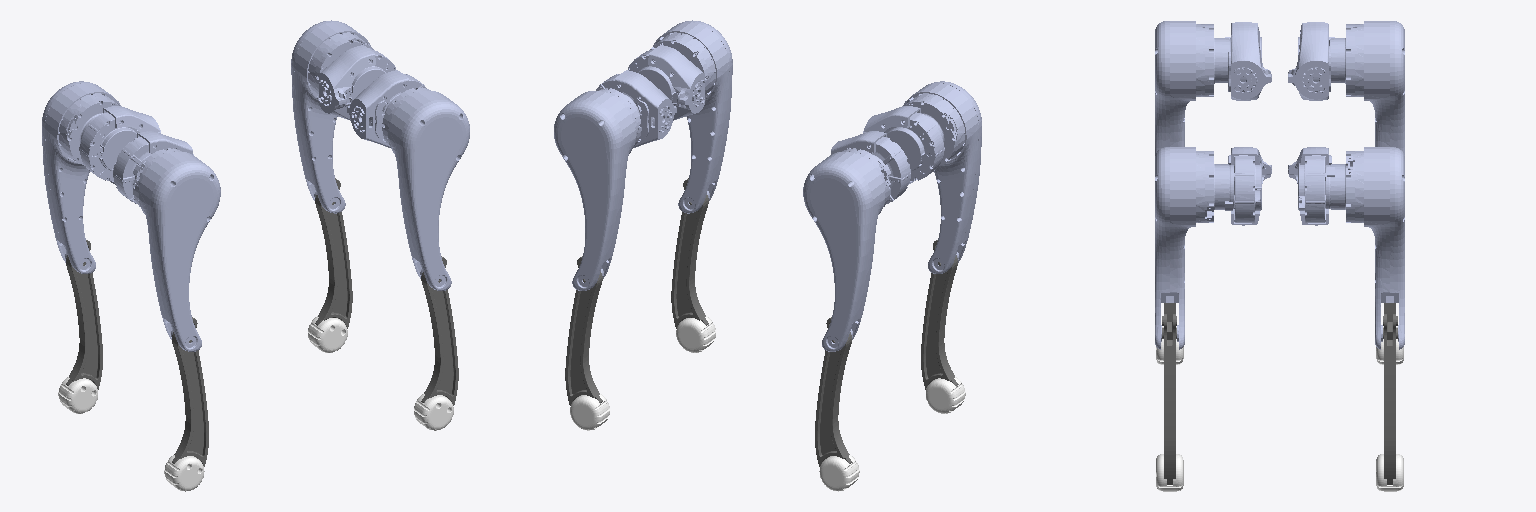
URDF robot description (X-DOG-URDF-7):
<?xml version="1.0" encoding="utf-8"?>
<!-- This URDF was automatically created by SolidWorks to URDF Exporter! Originally created by Stephen Brawner (brawner@gmail.com) 
     Commit Version: 1.6.0-4-g7f85cfe  Build Version: 1.6.7995.38578
     For more information, please see http://wiki.ros.org/sw_urdf_exporter -->
<robot
  name="X-DOG-URDF-7">
  <link
    name="base">
    <inertial>
      <origin
        xyz="0 0 0"
        rpy="0 0 0" />
      <mass value="5.6056"/>
      <inertia ixx="0.02456" ixy="0" ixz="0" iyy="0.05518" iyz="0" izz="0.07016"/>
    </inertial>
    <visual>
      <origin
        xyz="0 0 0"
        rpy="0 0 0" />
      <geometry>
        <mesh
          filename="../meshes/base.STL" />
      </geometry>
      <material
        name="">
        <color
          rgba="1 1 1 1" />
      </material>
    </visual>
    <collision>
      <origin
        xyz="-0.03 0 0"
        rpy="0 0 0" />
      <geometry>
        <box size="0.3 0.1 0.1" />
      </geometry>
    </collision>
  </link>
  <link
    name="FL_hip">
    <inertial>
      <origin
        xyz="-0.016524 -0.018717 -1.028E-05"
        rpy="0 0 0" />
      <mass
        value="0.678" />
      <inertia
        ixx="9.3893E-05"
        ixy="-9.6966E-07"
        ixz="4.9869E-08"
        iyy="0.00013301"
        iyz="2.623E-08"
        izz="6.7241E-05" />
    </inertial>
    <visual>
      <origin
        xyz="0 0 0"
        rpy="0 0 0" />
      <geometry>
        <mesh
          filename="../meshes/FL_hip.STL" />
      </geometry>
      <material
        name="">
        <color
          rgba="0.79216 0.81961 0.93333 1" />
      </material>
    </visual>
    <collision>
      <origin
        xyz="0 0.07 0"
        rpy="1.5707963267948966 0 0" />
      <geometry>
        <cylinder length="0.05" radius="0.046" />
      </geometry>
    </collision>
  </link>
  <joint
    name="FL_hip_joint" type="revolute">
    <origin
      xyz="0.17184 0.066326 0.0044898"
      rpy="0 0 0" />
    <parent
      link="base" />
    <child
      link="FL_hip" />
    <axis
      xyz="1 0 0" />
    <limit
      lower="-1.0472"
      upper="1.0472"
      effort="23.7"
      velocity="30.1" />
  </joint>
  <link
    name="FL_thigh">
    <inertial>
      <origin
        xyz="-0.0049117 -0.0082491 -0.036087"
        rpy="0 0 0" />
      <mass
        value="1.152" />
      <inertia
        ixx="0.0016"
        ixy="1.083E-05"
        ixz="-0.00011423"
        iyy="0.0018537"
        iyz="6.5694E-05"
        izz="0.00031306" />
    </inertial>
    <visual>
      <origin
        xyz="0 0 0"
        rpy="0 0 0" />
      <geometry>
        <mesh
          filename="../meshes/FL_thigh.STL" />
      </geometry>
      <material
        name="">
        <color
          rgba="0.79216 0.81961 0.93333 1" />
      </material>
    </visual>
    <collision>
      <origin
        xyz="-0.01 0.028 -0.06"
        rpy="0 1.5707963267948966 0" />
      <geometry>
        <box size="0.213 0.0245 0.06" />
      </geometry>
    </collision>
  </link>
  <joint
    name="FL_thigh_joint" type="revolute">
    <origin
      xyz="0 0.0636 0"
      rpy="0 0 0" />
    <parent
      link="FL_hip" />
    <child
      link="FL_thigh" />
    <axis
      xyz="0 1 0" />
    <limit
      lower="-1.5708"
      upper="3.4907"
      effort="23.7"
      velocity="30.1" />
  </joint>
  <link
    name="FL_calf">
    <inertial>
      <origin
        xyz="0.010831 -8.9768E-09 -0.092101"
        rpy="0 0 0" />
      <mass
        value="0.154" />
      <inertia
        ixx="0.0001146"
        ixy="-8.0208E-11"
        ixz="1.6264E-05"
        iyy="0.00012418"
        iyz="-1.4152E-11"
        izz="1.2226E-05" />
    </inertial>
    <visual>
      <origin
        xyz="0 0 0"
        rpy="0 0 0" />
      <geometry>
        <mesh
          filename="../meshes/FL_calf.STL" />
      </geometry>
      <material
        name="">
        <color
          rgba="0.49804 0.49804 0.49804 1" />
      </material>
    </visual>
    <collision>
      <origin
        xyz="0.01 0 -0.05"
        rpy="0 -0.21 0" />
      <geometry>
        <cylinder length="0.15" radius="0.012" />
      </geometry>
    </collision>
  </link>
  <joint
    name="FL_calf_joint" type="revolute">
    <origin
      xyz="0 0.015602 -0.21314"
      rpy="0 0 0" />
    <parent
      link="FL_thigh" />
    <child
      link="FL_calf" />
    <axis
      xyz="0 1 0" />
    <limit
      lower="-2.7227"
      upper="0.01"
      effort="45.43"
      velocity="15.7" />
  </joint>
  <link
    name="FL_calflower">
    <collision>
      <origin
        xyz="0 -8.9944E-09 -0.02"
        rpy="0 0 2" />
      <geometry>
        <cylinder length="0.06" radius="0.011" />
      </geometry>
    </collision>
  </link>
  <joint
    name="FL_calflower_joint"  type="fixed" dont_collapse="true">
    <origin
      xyz="0.02013 0 -0.13686"
      rpy="0 0 0" />
    <parent
      link="FL_calf" />
    <child
      link="FL_calflower" />
    <axis
      xyz="0 0 0" />
  </joint>
  <link
    name="FL_foot">
    <inertial>
      <origin
        xyz="-0.0030465 -0.00024191 -0.0050819"
        rpy="0 0 0" />
      <mass
        value="0.04" />
      <inertia
        ixx="1.3663E-05"
        ixy="-7.7708E-08"
        ixz="1.5617E-07"
        iyy="1.5631E-05"
        iyz="-1.2891E-07"
        izz="1.3829E-05" />
    </inertial>
    <visual>
      <origin
        xyz="0 0 0"
        rpy="0 0 0" />
      <geometry>
        <mesh
          filename="../meshes/FL_foot.STL" />
      </geometry>
      <material
        name="">
        <color
          rgba="1 1 1 1" />
      </material>
    </visual>
    <collision>
      <origin
        xyz="-0.003 0 -0.005"
        rpy="0 0 0" />
      <geometry>
        <sphere radius="0.028" />
      </geometry>
    </collision>
  </link>
  <joint
    name="FL_foot_joint" type="fixed" dont_collapse="true">
    <origin
      xyz="0.002364 0 -0.1994" />
    <parent
      link="FL_calf" />
    <child
      link="FL_foot" />
    <axis
      xyz="0 0 0" />
  </joint>
  <link
    name="FR_hip">
    <inertial>
      <origin
        xyz="-0.016524 0.018717 -1.028E-05"
        rpy="0 0 0" />
      <mass
        value="0.678" />
      <inertia
        ixx="9.3893E-05"
        ixy="1.0056E-06"
        ixz="-4.9868E-08"
        iyy="0.00013301"
        iyz="-3.2614E-08"
        izz="6.7241E-05" />
    </inertial>
    <visual>
      <origin
        xyz="0 0 0"
        rpy="0 0 0" />
      <geometry>
        <mesh
          filename="../meshes/FR_hip.STL" />
      </geometry>
      <material
        name="">
        <color
          rgba="0.79216 0.81961 0.93333 1" />
      </material>
    </visual>
    <collision>
      <origin
        xyz="0 -0.07 0"
        rpy="1.5707963267948966 0 0" />
      <geometry>
        <cylinder length="0.05" radius="0.046" />
      </geometry>
    </collision>
  </link>
  <joint
    name="FR_hip_joint" type="revolute">
    <origin
      xyz="0.17184 -0.066326 0.0044898"
      rpy="0 0 0" />
    <parent
      link="base" />
    <child
      link="FR_hip" />
    <axis
      xyz="1 0 0" />
    <limit
      lower="-1.0472"
      upper="1.0472"
      effort="23.7"
      velocity="30.1" />
  </joint>
  <link
    name="FR_thigh">
    <inertial>
      <origin
        xyz="-0.0049117 0.0082491 -0.036087"
        rpy="0 0 0" />
      <mass
        value="1.152" />
      <inertia
        ixx="0.0016006"
        ixy="-1.0985E-05"
        ixz="-0.00011519"
        iyy="0.0018536"
        iyz="-6.5225E-05"
        izz="0.00031237" />
    </inertial>
    <visual>
      <origin
        xyz="0 0 0"
        rpy="0 0 0" />
      <geometry>
        <mesh
          filename="../meshes/FR_thigh.STL" />
      </geometry>
      <material
        name="">
        <color
          rgba="0.79216 0.81961 0.93333 1" />
      </material>
    </visual>
    <collision>
      <origin
        xyz="-0.01 -0.028 -0.06"
        rpy="0 1.5707963267948966 0" />
      <geometry>
        <box size="0.213 0.0245 0.06" />
      </geometry>
    </collision>
  </link>
  <joint
    name="FR_thigh_joint" type="revolute">
    <origin
      xyz="0 -0.0636 0"
      rpy="0 0 0" />
    <parent
      link="FR_hip" />
    <child
      link="FR_thigh" />
    <axis
      xyz="0 1 0" />
    <limit
      lower="-1.5708"
      upper="3.4907"
      effort="23.7"
      velocity="30.1" />
  </joint>
  <link
    name="FR_calf">
    <inertial>
      <origin
        xyz="0.010831 8.9768E-09 -0.092101"
        rpy="0 0 0" />
      <mass
        value="0.154" />
      <inertia
        ixx="0.0001146"
        ixy="-8.0206E-11"
        ixz="1.6265E-05"
        iyy="0.00012418"
        iyz="-1.4174E-11"
        izz="1.2226E-05" />
    </inertial>
    <visual>
      <origin
        xyz="0 0 0"
        rpy="0 0 0" />
      <geometry>
        <mesh
          filename="../meshes/FR_calf.STL" />
      </geometry>
      <material
        name="">
        <color
          rgba="0.49804 0.49804 0.49804 1" />
      </material>
    </visual>
    <collision>
      <origin
        xyz="0.01 0 -0.05"
        rpy="0 -0.21 0" />
      <geometry>
        <cylinder length="0.15" radius="0.012" />
      </geometry>
    </collision>
  </link>
  <joint
    name="FR_calf_joint" type="revolute">
    <origin
      xyz="0 -0.015602 -0.21314"
      rpy="0 0 0" />
    <parent
      link="FR_thigh" />
    <child
      link="FR_calf" />
    <axis
      xyz="0 1 0" />
    <limit
      lower="-2.7227"
      upper="0.01"
      effort="45.43"
      velocity="15.7" />
  </joint>
  <link
    name="FR_calflower">
    <collision>
      <origin
        xyz="0 -8.9944E-09 -0.02"
        rpy="0 0 2" />
      <geometry>
        <cylinder length="0.06" radius="0.011" />
      </geometry>
    </collision>
  </link>
  <joint
    name="FR_calflower_joint" type="fixed" dont_collapse="true">
    <origin
      xyz="0.02013 0 -0.13686"
      rpy="0 0 0" />
    <parent
      link="FR_calf" />
    <child
      link="FR_calflower" />
    <axis
      xyz="0 0 0" />
  </joint>
  <link
    name="FR_foot">
    <inertial>
      <origin
        xyz="-0.0030465 0.00024191 -0.0050819"
        rpy="0 0 0" />
      <mass
        value="0.04" />
      <inertia
        ixx="1.3663E-05"
        ixy="-7.7707E-08"
        ixz="1.5617E-07"
        iyy="1.5631E-05"
        iyz="-1.2891E-07"
        izz="1.3829E-05" />
    </inertial>
    <visual>
      <origin
        xyz="0 0 0"
        rpy="0 0 0" />
      <geometry>
        <mesh
          filename="../meshes/FR_foot.STL" />
      </geometry>
      <material
        name="">
        <color
          rgba="1 1 1 1" />
      </material>
    </visual>
    <collision>
      <origin
        xyz="-0.003 0 -0.005"
        rpy="0 0 0" />
      <geometry>
        <sphere radius="0.028" />
      </geometry>
    </collision>
  </link>
  <joint
    name="FR_foot_joint" type="fixed" dont_collapse="true">
    <origin
      xyz="0.002364 0 -0.1994"
       />
    <parent
      link="FR_calf" />
    <child
      link="FR_foot" />
    <axis
      xyz="0 0 0" />
  </joint>
  <link
    name="RL_hip">
    <inertial>
      <origin
        xyz="0.016553 -0.018717 -6.776E-06"
        rpy="0 0 0" />
      <mass
        value="0.678" />
      <inertia
        ixx="9.3893E-05"
        ixy="1.0056E-06"
        ixz="4.9869E-08"
        iyy="0.00013301"
        iyz="3.2613E-08"
        izz="6.7241E-05" />
    </inertial>
    <visual>
      <origin
        xyz="0 0 0"
        rpy="0 0 0" />
      <geometry>
        <mesh
          filename="../meshes/RL_hip.STL" />
      </geometry>
      <material
        name="">
        <color
          rgba="0.79216 0.81961 0.93333 1" />
      </material>
    </visual>
    <collision>
      <origin
        xyz="0 0.07 0"
        rpy="1.5707963267948966 0 0" />
      <geometry>
        <cylinder length="0.05" radius="0.046" />
      </geometry>
    </collision>
  </link>
  <joint
    name="RL_hip_joint" type="revolute">
    <origin
      xyz="-0.22336 0.066328 0.0044897"
      rpy="0 0 0" />
    <parent
      link="base" />
    <child
      link="RL_hip" />
    <axis
      xyz="1 0 0" />
    <limit
      lower="-1.0472"
      upper="1.0472"
      effort="23.7"
      velocity="30.1" />
  </joint>
  <link
    name="RL_thigh">
    <inertial>
      <origin
        xyz="-0.0049761 -0.0082491 -0.036055"
        rpy="0 0 0" />
      <mass
        value="1.152" />
      <inertia
        ixx="0.0016006"
        ixy="1.0361E-05"
        ixz="-0.00011511"
        iyy="0.0018537"
        iyz="6.5539E-05"
        izz="0.00031239" />
    </inertial>
    <visual>
      <origin
        xyz="0 0 0"
        rpy="0 0 0" />
      <geometry>
        <mesh
          filename="../meshes/RL_thigh.STL" />
      </geometry>
      <material
        name="">
        <color
          rgba="0.79216 0.81961 0.93333 1" />
      </material>
    </visual>
    <collision>
      <origin
        xyz="-0.01 0.028 -0.06"
        rpy="0 1.5707963267948966 0" />
      <geometry>
        <box size="0.213 0.0245 0.06" />
      </geometry>
    </collision>
  </link>
  <joint
    name="RL_thigh_joint" type="revolute">
    <origin
      xyz="0 0.0636 0"
      rpy="0 0 0" />
    <parent
      link="RL_hip" />
    <child
      link="RL_thigh" />
    <axis
      xyz="0 1 0" />
    <limit
      lower="-0.5236"
      upper="4.5379"
      effort="23.7"
      velocity="30.1" />
  </joint>
  <link
    name="RL_calf">
    <inertial>
      <origin
        xyz="0.010831 -8.9944E-09 -0.092101"
        rpy="0 0 0" />
      <mass
        value="0.154" />
      <inertia
        ixx="0.0001146"
        ixy="-8.0209E-11"
        ixz="1.6264E-05"
        iyy="0.00012418"
        iyz="-1.4136E-11"
        izz="1.2226E-05" />
    </inertial>
    <visual>
      <origin
        xyz="0 0 0"
        rpy="0 0 0" />
      <geometry>
        <mesh
          filename="../meshes/RL_calf.STL" />
      </geometry>
      <material
        name="">
        <color
          rgba="0.49804 0.49804 0.49804 1" />
      </material>
    </visual>
    <collision>
      <origin
        xyz="0.01 0 -0.05"
        rpy="0 -0.21 0" />
      <geometry>
        <cylinder length="0.15" radius="0.012" />
      </geometry>
    </collision>
  </link>
  <joint
    name="RL_calf_joint" type="revolute">
    <origin
      xyz="0 0.015602 -0.21314"
      rpy="0 0 0" />
    <parent
      link="RL_thigh" />
    <child
      link="RL_calf" />
    <axis
      xyz="0 1 0" />
    <limit
      lower="-2.7227"
      upper="0.01"
      effort="45.43"
      velocity="15.7" />
  </joint>
  <link
    name="RL_calflower">
    <collision>
      <origin
        xyz="0 -8.9944E-09 -0.02"
        rpy="0 0 2" />
      <geometry>
        <cylinder length="0.06" radius="0.011" />
      </geometry>
    </collision>
  </link>
  <joint
    name="RL_calflower_joint" type="fixed" dont_collapse="true">
    <origin
      xyz="0.01533 0 -0.13686"
      rpy="0 0 0" />
    <parent
      link="RL_calf" />
    <child
      link="RL_calflower" />
    <axis
      xyz="0 0 0" />
  </joint>
  <link
    name="RL_foot">
    <inertial>
      <origin
        xyz="-0.0030466 -0.00024191 -0.0050819"
        rpy="0 0 0" />
      <mass
        value="0.04" />
      <inertia
        ixx="1.3663E-05"
        ixy="-7.7708E-08"
        ixz="1.5617E-07"
        iyy="1.5631E-05"
        iyz="-1.2891E-07"
        izz="1.3829E-05" />
    </inertial>
    <visual>
      <origin
        xyz="0 0 0"
        rpy="0 0 0" />
      <geometry>
        <mesh
          filename="../meshes/RL_foot.STL" />
      </geometry>
      <material
        name="">
        <color
          rgba="1 1 1 1" />
      </material>
    </visual>
    <collision>
      <origin
        xyz="-0.003 0 -0.005"
        rpy="0 0 0" />
      <geometry>
        <sphere radius="0.028" />
      </geometry>
    </collision>
  </link>
  <joint
    name="RL_foot_joint" type="fixed" dont_collapse="true">
    <origin
      xyz="0.002364 0 -0.1994"
       />
    <parent
      link="RL_calf" />
    <child
      link="RL_foot" />
    <axis
      xyz="0 0 0" />
  </joint>
  <link
    name="RR_hip">
    <inertial>
      <origin
        xyz="0.016553 0.018717 -6.776E-06"
        rpy="0 0 0" />
      <mass
        value="0.678" />
      <inertia
        ixx="9.3893E-05"
        ixy="-9.6966E-07"
        ixz="-4.987E-08"
        iyy="0.00013301"
        iyz="-2.623E-08"
        izz="6.7241E-05" />
    </inertial>
    <visual>
      <origin
        xyz="0 0 0"
        rpy="0 0 0" />
      <geometry>
        <mesh
          filename="../meshes/RR_hip.STL" />
      </geometry>
      <material
        name="">
        <color
          rgba="0.79216 0.81961 0.93333 1" />
      </material>
    </visual>
    <collision>
      <origin
        xyz="0 -0.07 0"
        rpy="1.5707963267948966 0 0" />
      <geometry>
        <cylinder length="0.05" radius="0.046" />
      </geometry>
    </collision>
  </link>
  <joint
    name="RR_hip_joint" type="revolute">
    <origin
      xyz="-0.22336 -0.066328 0.0044897"
      rpy="0 0 0" />
    <parent
      link="base" />
    <child
      link="RR_hip" />
    <axis
      xyz="1 0 0" />
    <limit
      lower="-1.0472"
      upper="1.0472"
      effort="23.7"
      velocity="30.1" />
  </joint>
  <link
    name="RR_thigh">
    <inertial>
      <origin
        xyz="-0.0049761 0.0082491 -0.036055"
        rpy="0 0 0" />
      <mass
        value="1.152" />
      <inertia
        ixx="0.0016006"
        ixy="-1.0361E-05"
        ixz="-0.00011518"
        iyy="0.0018536"
        iyz="-6.5538E-05"
        izz="0.00031237" />
    </inertial>
    <visual>
      <origin
        xyz="0 0 0"
        rpy="0 0 0" />
      <geometry>
        <mesh
          filename="../meshes/RR_thigh.STL" />
      </geometry>
      <material
        name="">
        <color
          rgba="0.79216 0.81961 0.93333 1" />
      </material>
    </visual>
    <collision>
      <origin
        xyz="-0.01 -0.028 -0.06"
        rpy="0 1.5707963267948966 0" />
      <geometry>
        <box size="0.213 0.0245 0.06" />
      </geometry>
    </collision>
  </link>
  <joint
    name="RR_thigh_joint" type="revolute">
    <origin
      xyz="0 -0.0636 0"
      rpy="0 0 0" />
    <parent
      link="RR_hip" />
    <child
      link="RR_thigh" />
    <axis
      xyz="0 1 0" />
    <limit
      lower="-0.5236"
      upper="4.5379"
      effort="23.7"
      velocity="30.1" />
  </joint>
  <link
    name="RR_calf">
    <inertial>
      <origin
        xyz="0.010831 8.9944E-09 -0.092101"
        rpy="0 0 0" />
      <mass
        value="0.154" />
      <inertia
        ixx="0.0001146"
        ixy="-8.0208E-11"
        ixz="1.6265E-05"
        iyy="0.00012418"
        iyz="-1.4152E-11"
        izz="1.2226E-05" />
    </inertial>
    <visual>
      <origin
        xyz="0 0 0"
        rpy="0 0 0" />
      <geometry>
        <mesh
          filename="../meshes/RR_calf.STL" />
      </geometry>
      <material
        name="">
        <color
          rgba="0.49804 0.49804 0.49804 1" />
      </material>
    </visual>
    <collision>
      <origin
        xyz="0.01 0 -0.05"
        rpy="0 -0.21 0" />
      <geometry>
        <cylinder length="0.15" radius="0.012" />
      </geometry>
    </collision>
  </link>
  <joint
    name="RR_calf_joint" type="revolute">
    <origin
      xyz="0 -0.015602 -0.21314"
      rpy="0 0 0" />
    <parent
      link="RR_thigh" />
    <child
      link="RR_calf" />
    <axis
      xyz="0 1 0" />
    <limit
      lower="-2.7227"
      upper="0.01"
      effort="45.43"
      velocity="15.7" />
  </joint>
  <link
    name="RR_calflower">
    <collision>
      <origin
        xyz="0 -8.9944E-09 -0.02"
        rpy="0 0 2" />
      <geometry>
        <cylinder length="0.06" radius="0.011" />
      </geometry>
    </collision>
  </link>
  <joint
    name="RR_calflower_joint" type="fixed" dont_collapse="true">
    <origin
      xyz="0.01533 0 -0.13686"
      rpy="0 0 0" />
    <parent
      link="RR_calf" />
    <child
      link="RR_calflower" />
    <axis
      xyz="0 0 0" />
  </joint>
  <link
    name="RR_foot">
    <inertial>
      <origin
        xyz="-0.0030465 0.00024191 -0.0050819"
        rpy="0 0 0" />
      <mass
        value="0.04" />
      <inertia
        ixx="1.3663E-05"
        ixy="-7.7707E-08"
        ixz="1.5617E-07"
        iyy="1.5631E-05"
        iyz="-1.2891E-07"
        izz="1.3829E-05" />
    </inertial>
    <visual>
      <origin
        xyz="0 0 0"
        rpy="0 0 0" />
      <geometry>
        <mesh
          filename="../meshes/RR_foot.STL" />
      </geometry>
      <material
        name="">
        <color
          rgba="1 1 1 1" />
      </material>
    </visual>
    <collision>
      <origin
        xyz="-0.003 0 -0.005"
        rpy="0 0 0" />
      <geometry>
        <sphere radius="0.028" />
      </geometry>
    </collision>
  </link>
  <joint
    name="RR_foot_joint" type="fixed" dont_collapse="true">
    <origin
      xyz="0.002364 0 -0.1994"
       />
    <parent
      link="RR_calf" />
    <child
      link="RR_foot" />
    <axis
      xyz="0 0 0" />
  </joint>
  <joint name="imu_joint" type="fixed" dont_collapse="true">
    <origin xyz="-0.02557 0 0.04232" rpy="0 0 0" />
    <parent link="base" />
    <child link="imu" />
    <axis xyz="0 0 0" />
  </joint>
  <link name="imu">
    <inertial>
      <origin xyz="0 0 0" rpy="0 0 0" />
      <mass value="0" />
      <inertia ixx="0" ixy="0" ixz="0" iyy="0" iyz="0" izz="0" />
    </inertial>
  </link>
</robot>

--- Render facts (derived) ---
Views: 3 orthographic renders of the robot side by side, from view 1: azimuth 30°, elevation 25°; view 2: azimuth 150°, elevation 25°; view 3: azimuth 270°, elevation 25°.
Model X-DOG-URDF-7 with 22 links and 21 joints (12 revolute, 9 fixed), rooted at base, posed all joints at 0.
Visible links, largest first — view 1: RR_thigh, FR_thigh, RL_thigh, FL_thigh, RL_hip, FL_hip, FL_calf, RL_calf, RR_calf, FR_calf, FR_hip, RR_hip (+4 smaller); view 2: RL_thigh, FL_thigh, RR_thigh, FR_thigh, RR_hip, FR_hip, FR_calf, RR_calf, RL_calf, FL_calf, FL_hip, RL_hip (+4 smaller); view 3: FL_thigh, FR_thigh, RL_thigh, RR_thigh, RR_hip, RL_hip, FR_hip, FL_hip, FL_calf, FR_calf, FL_foot, FR_foot.
Link boxes in pixels (x1,y1,x2,y2): RR_thigh: (133,148,220,351); FR_thigh: (382,88,469,290); RL_thigh: (42,81,120,273); FL_thigh: (291,20,373,213); RL_hip: (79,106,160,184); FL_hip: (319,45,395,120); FL_calf: (315,178,352,328); RL_calf: (66,240,102,389); RR_calf: (172,317,208,466); FR_calf: (421,256,458,405); FR_hip: (347,70,426,147); RR_hip: (113,131,193,203); RL_thigh: (803,148,890,351); FL_thigh: (554,88,641,290); RR_thigh: (903,81,981,273); FR_thigh: (650,20,732,213); RR_hip: (863,106,944,184); FR_hip: (628,45,704,120); FR_calf: (671,178,708,328); RR_calf: (921,240,957,389); RL_calf: (815,317,851,466); FL_calf: (565,256,602,405); FL_hip: (596,70,676,147); RL_hip: (831,131,910,203); FL_thigh: (1327,147,1404,349); FR_thigh: (1155,147,1232,349); RL_thigh: (1329,21,1404,155); RR_thigh: (1155,21,1230,155); RR_hip: (1228,22,1271,100); RL_hip: (1288,22,1330,100); FR_hip: (1228,147,1271,225); FL_hip: (1288,147,1331,225); FL_calf: (1383,314,1397,484); FR_calf: (1162,314,1176,484); FL_foot: (1376,454,1403,491); FR_foot: (1156,454,1183,491).
Size in the robot's own frame: 0.5014 by 0.3304 by 0.4946 metres.
16 mesh visuals loaded from 17 distinct referenced files (16 binary STL); not drawn: 1 (reference not matched to a file when rendering).
